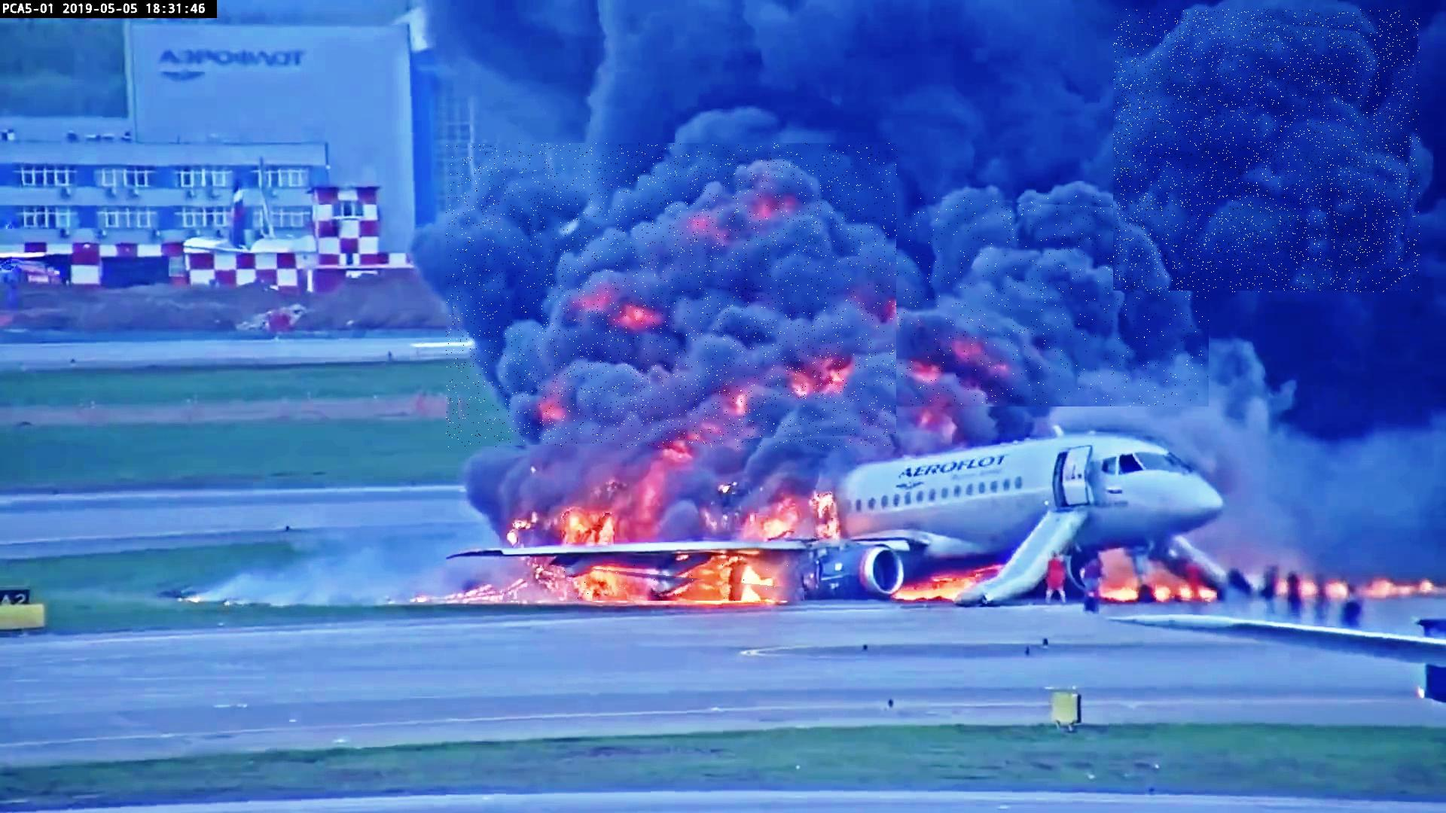fire: (554, 565, 806, 601)
smoke: (447, 143, 898, 448), (1114, 10, 1420, 293), (887, 196, 1209, 407)
